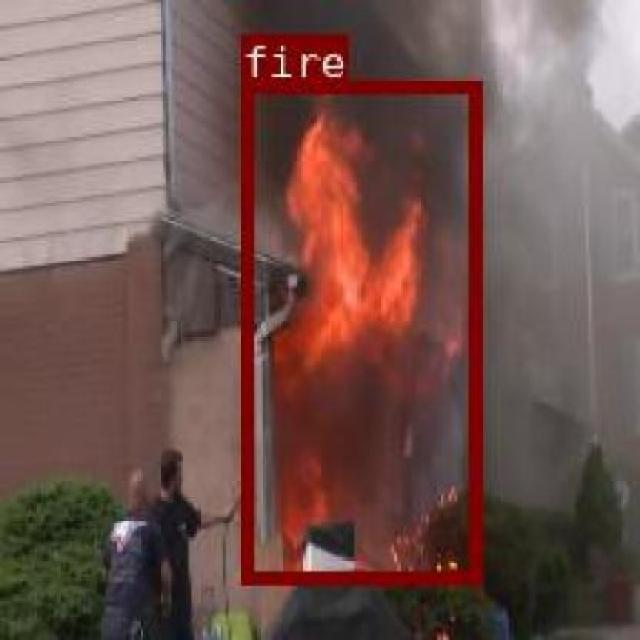fire: (238, 79, 479, 582)
